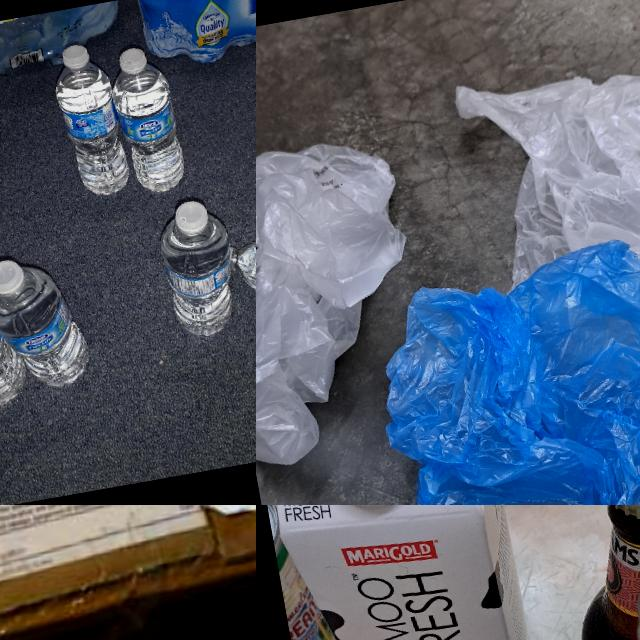caixinha: (256, 505, 551, 640)
garrafa de vidro: (544, 505, 640, 640), (528, 532, 640, 640)
garrafa plástica: (0, 256, 96, 397), (155, 206, 247, 340), (49, 59, 130, 202), (109, 60, 190, 198), (0, 273, 30, 419)
lata: (261, 505, 345, 640)
papelão: (0, 505, 256, 640)
sacola plástica: (311, 222, 640, 505), (256, 129, 444, 470), (452, 50, 640, 350)
tampa plástica: (170, 194, 215, 242), (0, 252, 32, 302), (114, 42, 150, 78), (61, 40, 94, 73)
